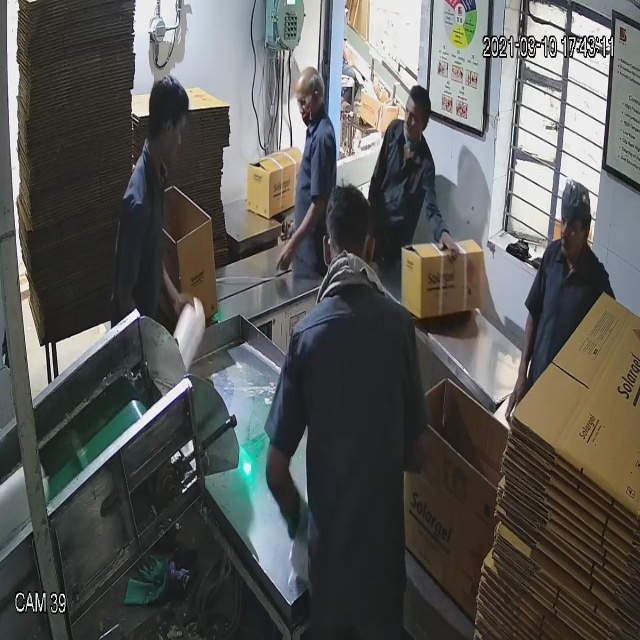Sin_guantes: (268, 191, 340, 287), (505, 292, 546, 420), (152, 251, 201, 333), (422, 190, 463, 269)
